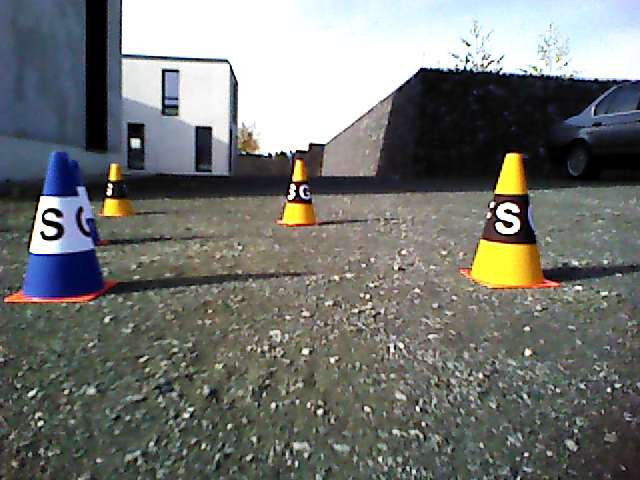bluecone: (24, 152, 101, 296)
yellowcone: (475, 152, 543, 284), (281, 159, 315, 223), (104, 163, 133, 214)
